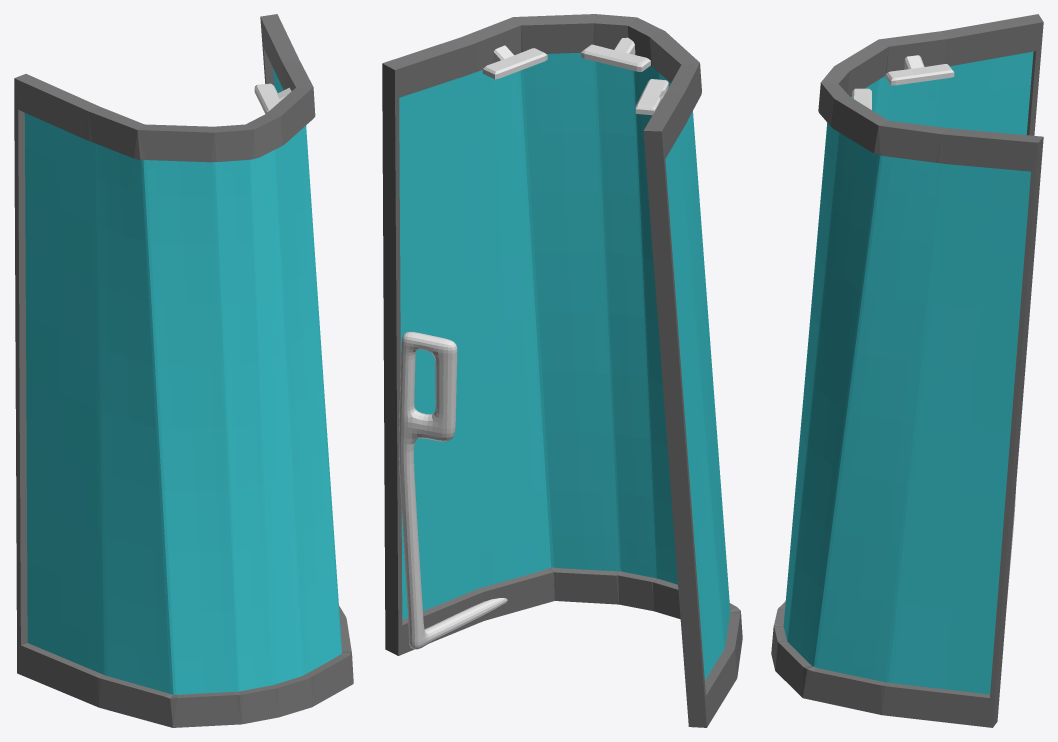
The model's file is cf104_door_accessories.gltf.
3 views of the same model, side by side, from view 1: azimuth 30°, elevation 25°; view 2: azimuth 150°, elevation 25°; view 3: azimuth 270°, elevation 25° (orthographic). The views are drawn at different scales.
Visible parts, largest first — view 1: door_glass.001, door_metal.001, mirror; view 2: door_glass.001, door_metal.001, handle, mirror; view 3: door_glass.001, door_metal.001, mirror.
Part boxes in pixels (x1=…): door_glass.001: x1=24, y1=68, x2=341, y2=694; door_metal.001: x1=14, y1=14, x2=353, y2=727; mirror: x1=254, y1=83, x2=291, y2=113; door_glass.001: x1=399, y1=52, x2=730, y2=680; door_metal.001: x1=382, y1=14, x2=742, y2=727; handle: x1=399, y1=332, x2=507, y2=649; mirror: x1=482, y1=37, x2=668, y2=115; door_glass.001: x1=783, y1=51, x2=1033, y2=694; door_metal.001: x1=771, y1=14, x2=1043, y2=727; mirror: x1=852, y1=55, x2=954, y2=109.
Bounding box in the file's own units: 1.19 × 2.16 × 0.9239.
